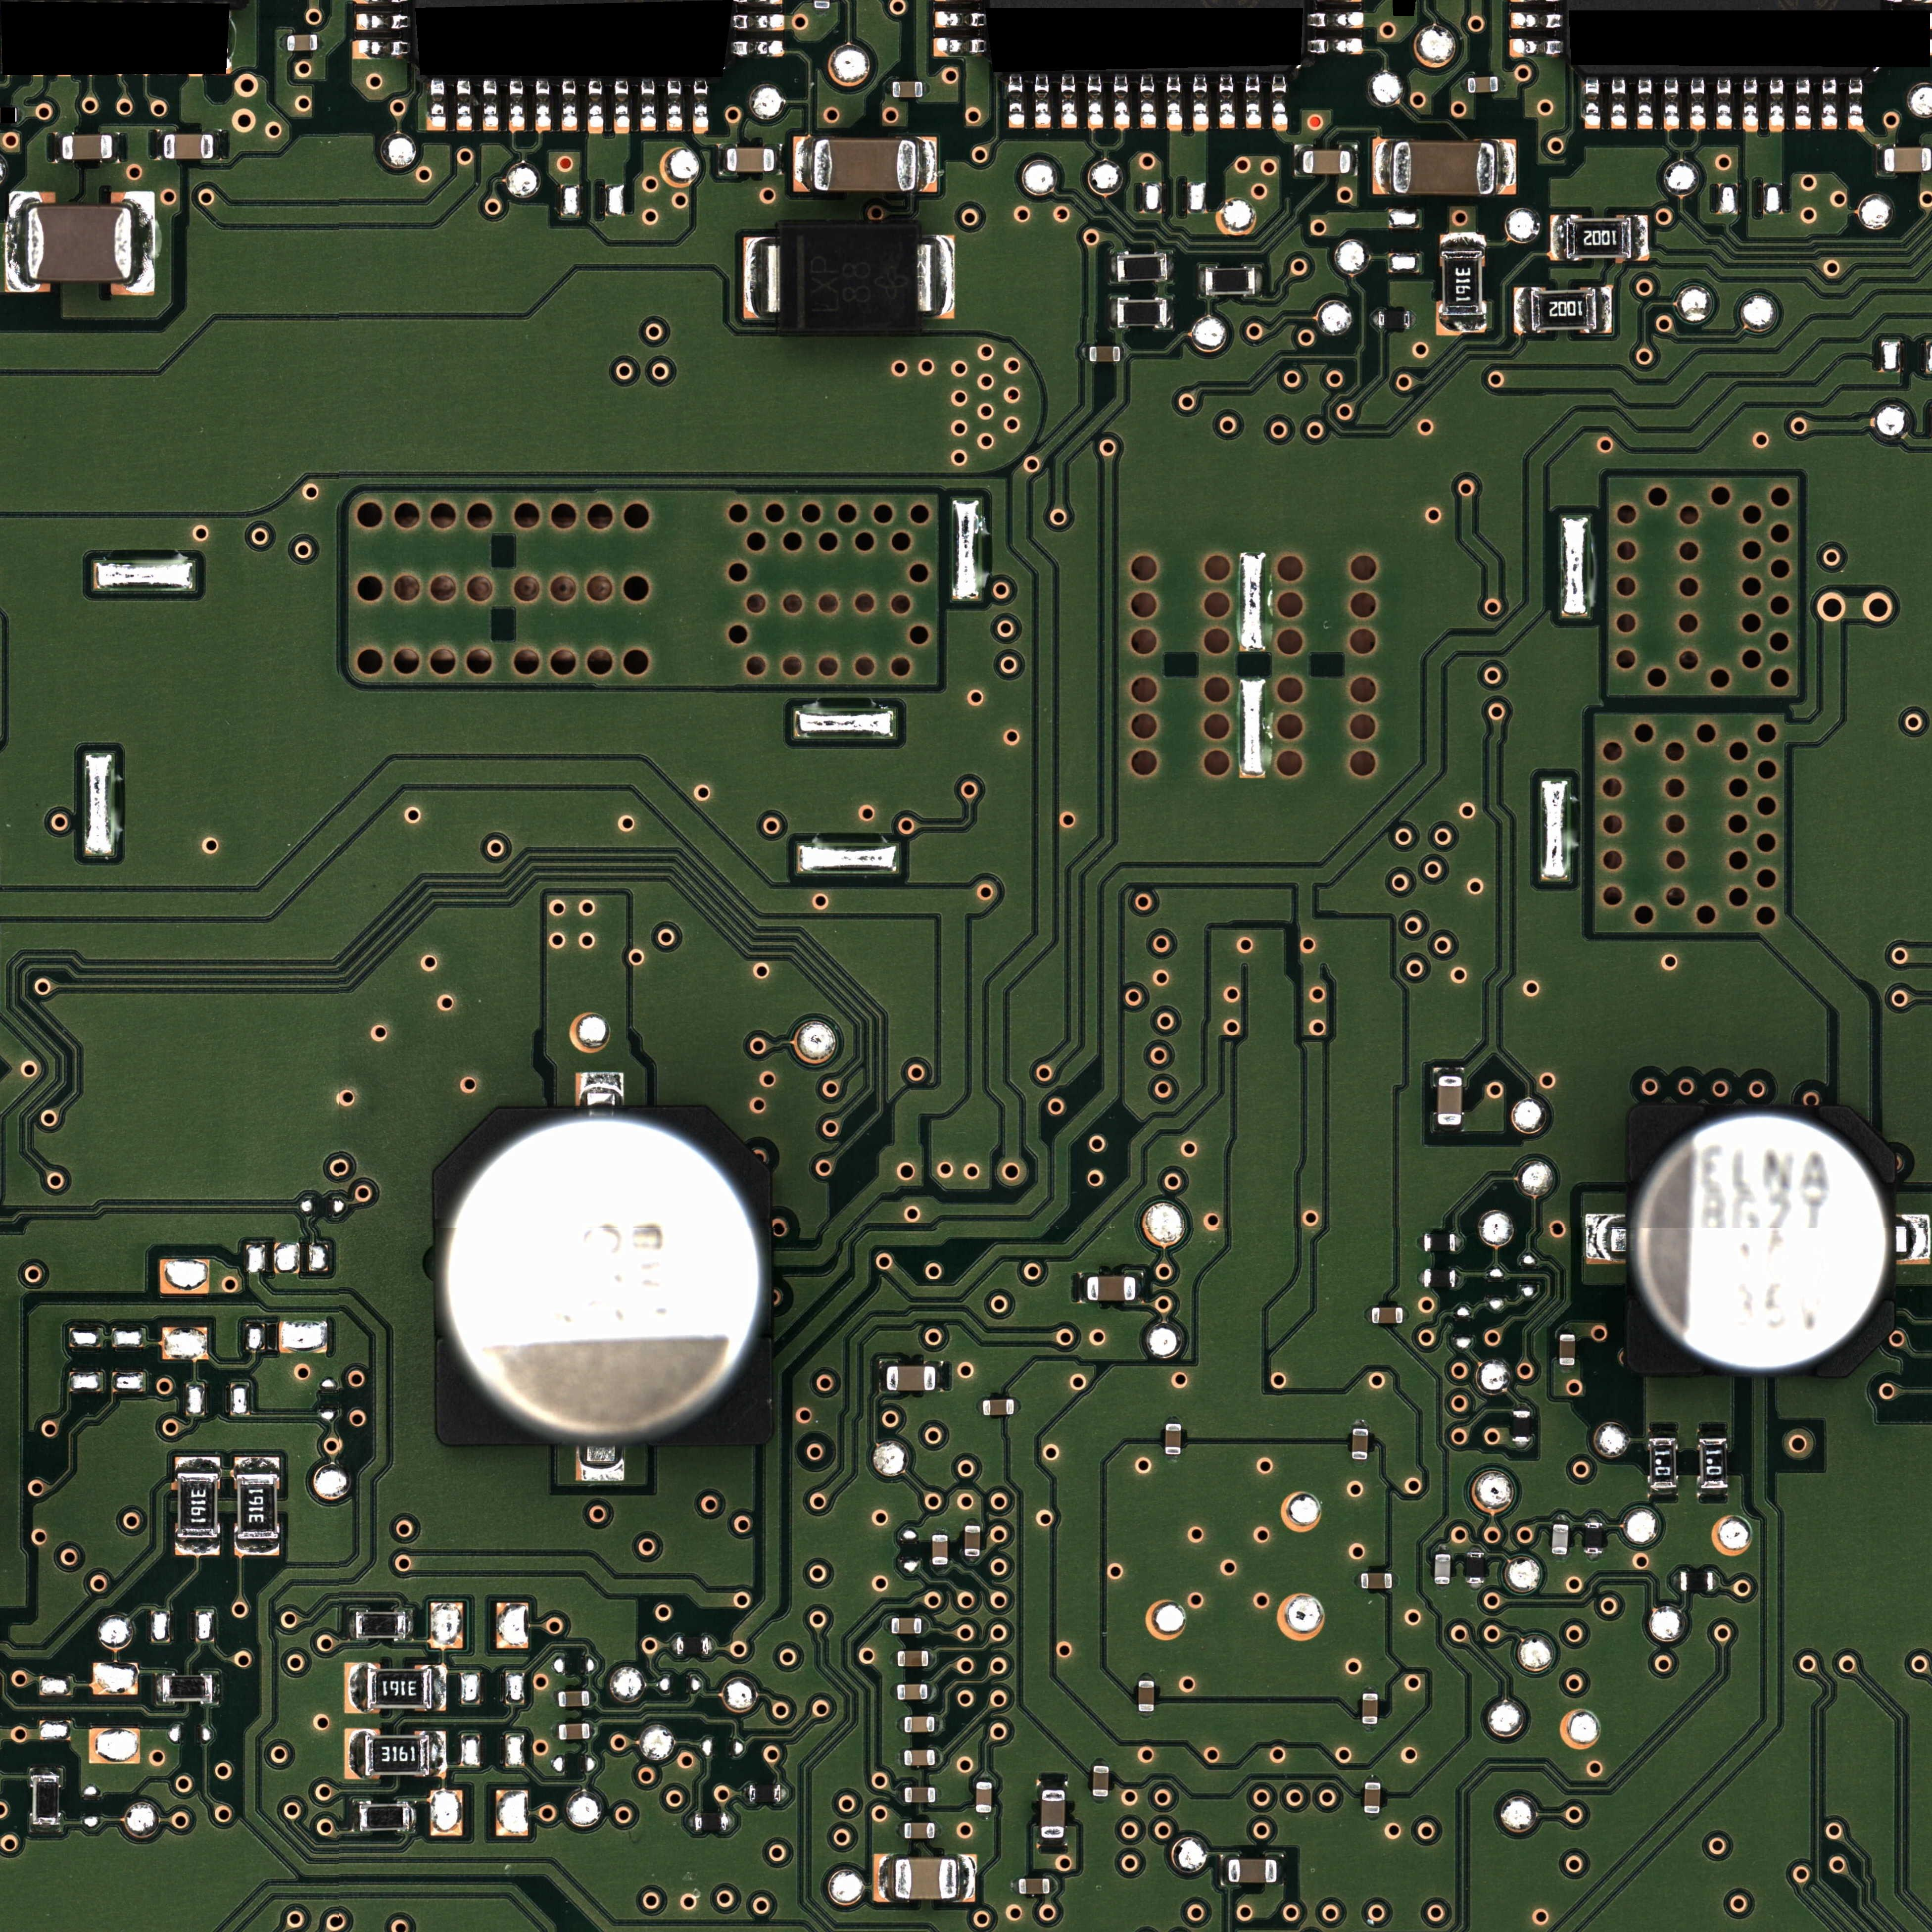Package: (435, 1108, 772, 1444), (1627, 1105, 1895, 1374), (780, 224, 918, 332), (28, 205, 132, 282), (1393, 142, 1495, 194), (814, 139, 916, 191), (177, 1473, 218, 1538), (1441, 251, 1483, 315), (1531, 290, 1596, 331), (1566, 217, 1631, 258), (237, 1474, 278, 1539), (367, 1669, 432, 1709), (365, 1735, 430, 1775), (895, 1859, 957, 1899), (1700, 1438, 1727, 1488), (1117, 299, 1166, 326), (360, 1804, 409, 1830), (1649, 1438, 1676, 1488), (62, 135, 112, 160), (356, 1612, 406, 1638), (1117, 255, 1167, 281), (164, 134, 214, 159), (1206, 268, 1255, 294), (162, 1676, 212, 1701), (887, 1365, 936, 1391), (34, 1775, 58, 1825), (1087, 1276, 1135, 1301), (1437, 1076, 1462, 1125), (1228, 1859, 1277, 1884), (1041, 1790, 1065, 1838), (727, 148, 774, 172), (1303, 150, 1350, 174), (1885, 149, 1932, 171), (1680, 1571, 1713, 1591), (676, 1637, 709, 1655), (695, 1813, 727, 1832), (1585, 1522, 1603, 1554), (1424, 1233, 1455, 1252), (1466, 1551, 1485, 1583), (1512, 1411, 1531, 1442), (1378, 311, 1410, 328), (749, 1785, 781, 1802), (1424, 1269, 1455, 1287), (559, 1723, 590, 1739), (897, 1650, 928, 1667), (558, 1690, 589, 1707), (1138, 1681, 1155, 1712), (1559, 1334, 1576, 1365), (975, 1782, 992, 1813), (1362, 1693, 1378, 1724), (1352, 1429, 1368, 1459), (1165, 1424, 1181, 1454), (1364, 1783, 1381, 1813), (904, 1750, 935, 1766), (1372, 1307, 1403, 1323), (1361, 1573, 1392, 1589), (983, 1399, 1014, 1415), (287, 35, 317, 51), (891, 1618, 921, 1634), (964, 1526, 980, 1556), (904, 1716, 934, 1733), (1468, 76, 1498, 93), (904, 1823, 935, 1838), (905, 1787, 935, 1803), (1089, 346, 1120, 362), (892, 82, 922, 97), (932, 1535, 948, 1565), (897, 1684, 927, 1700), (1435, 1554, 1450, 1584), (1552, 1524, 1568, 1554), (1019, 1879, 1050, 1894), (1093, 1766, 1109, 1796), (1396, 0, 1411, 6)
Solder: (918, 235, 955, 319), (743, 237, 779, 320), (133, 192, 155, 294), (5, 191, 26, 291), (1585, 1214, 1625, 1260), (1897, 1214, 1931, 1263), (577, 1072, 624, 1106), (578, 1446, 624, 1481), (1496, 139, 1516, 195), (918, 137, 937, 192), (793, 136, 812, 193), (1373, 139, 1392, 195), (346, 1663, 366, 1713), (936, 38, 990, 55), (1309, 10, 1364, 28), (1509, 39, 1564, 56), (345, 1729, 364, 1779), (356, 13, 410, 31), (357, 41, 411, 58), (729, 12, 783, 30), (730, 40, 784, 57), (935, 11, 989, 28), (1308, 38, 1362, 55), (1510, 12, 1564, 29), (456, 80, 473, 131), (533, 80, 550, 131), (1008, 76, 1025, 127), (1217, 77, 1234, 128), (1584, 78, 1600, 129), (483, 80, 499, 130), (1089, 76, 1106, 126), (1166, 76, 1183, 127), (1193, 76, 1210, 127), (1244, 76, 1261, 127), (1271, 76, 1288, 127), (1742, 79, 1759, 129), (1769, 79, 1786, 129), (1820, 79, 1836, 129), (1846, 79, 1863, 129), (429, 80, 445, 131), (1035, 76, 1052, 127), (1113, 76, 1129, 127), (1140, 77, 1156, 128), (1611, 78, 1627, 129), (1689, 79, 1705, 130), (958, 1854, 975, 1902), (877, 1853, 894, 1902), (510, 80, 526, 130), (561, 81, 577, 131), (587, 80, 604, 131), (614, 80, 630, 131), (638, 81, 655, 131), (665, 80, 681, 131), (692, 80, 708, 131), (1062, 76, 1078, 126), (1638, 78, 1654, 129), (1664, 78, 1681, 129), (1715, 79, 1732, 130), (1793, 79, 1809, 130), (1438, 316, 1487, 332), (1514, 287, 1531, 334), (1440, 233, 1486, 250), (175, 1539, 221, 1555), (430, 1732, 446, 1778), (235, 1540, 280, 1556), (1632, 215, 1648, 260), (1550, 215, 1566, 261), (234, 1457, 280, 1473), (1597, 287, 1612, 334), (175, 1457, 220, 1472), (432, 1665, 446, 1711), (1294, 144, 1303, 178), (1255, 264, 1263, 297), (1037, 1780, 1067, 1789), (1647, 1429, 1678, 1438), (1037, 1838, 1067, 1847), (1875, 145, 1884, 175), (30, 1767, 63, 1775), (1110, 251, 1117, 284), (1432, 1125, 1464, 1133), (935, 1361, 943, 1392), (1220, 1855, 1228, 1885), (1434, 1067, 1464, 1075), (1697, 1429, 1728, 1437), (1198, 264, 1206, 299), (1698, 1489, 1728, 1497), (1110, 295, 1117, 330), (879, 1360, 887, 1392), (212, 1672, 220, 1706), (1350, 143, 1357, 176), (351, 1801, 359, 1832), (348, 1609, 356, 1640), (409, 1801, 417, 1832), (1276, 1854, 1284, 1885), (774, 144, 782, 174), (406, 1609, 413, 1642), (29, 1826, 63, 1833), (1167, 249, 1174, 284), (1136, 1271, 1143, 1305), (719, 145, 726, 175), (156, 1673, 163, 1706), (1649, 1488, 1678, 1496), (1167, 295, 1173, 331), (1079, 1273, 1087, 1303), (55, 133, 62, 162), (157, 130, 164, 160), (214, 131, 220, 160), (112, 133, 118, 162), (279, 33, 287, 52), (1164, 1455, 1181, 1464), (1456, 1270, 1464, 1288), (1352, 1419, 1368, 1428), (1093, 1757, 1109, 1766), (318, 33, 326, 51), (1586, 1554, 1601, 1563), (885, 80, 893, 97), (931, 1565, 949, 1573), (976, 1812, 991, 1821), (1416, 1233, 1424, 1252), (964, 1518, 981, 1526), (1011, 1878, 1019, 1894), (814, 8, 829, 16), (1364, 1307, 1372, 1323), (1352, 1459, 1368, 1467), (1050, 1879, 1058, 1894), (1370, 310, 1378, 328), (1410, 311, 1417, 329), (1498, 76, 1506, 92), (1460, 77, 1468, 93), (687, 1814, 695, 1831), (1456, 1234, 1463, 1251), (1673, 1573, 1681, 1590), (1436, 1546, 1451, 1554), (923, 81, 930, 97), (932, 1528, 948, 1535), (551, 1724, 559, 1740), (1082, 345, 1089, 362), (975, 1775, 992, 1782), (670, 1637, 676, 1655), (921, 1618, 929, 1634), (781, 1785, 788, 1802), (1395, 6, 1412, 13), (1417, 1269, 1424, 1286), (1138, 1674, 1155, 1681), (709, 1637, 715, 1655), (742, 1785, 749, 1802), (1512, 1442, 1530, 1449), (1353, 1573, 1361, 1588), (1093, 1796, 1108, 1804), (1552, 1554, 1568, 1562), (898, 1749, 905, 1766), (1402, 1307, 1409, 1324), (1559, 1365, 1575, 1372), (1713, 1572, 1719, 1591), (589, 1690, 596, 1706), (1165, 1417, 1181, 1424), (1559, 1327, 1575, 1334), (928, 1651, 935, 1666), (898, 1823, 905, 1838), (1392, 1573, 1399, 1588), (1362, 1687, 1378, 1693), (1468, 1584, 1483, 1591), (1467, 1545, 1483, 1552), (927, 1684, 934, 1700), (964, 1556, 980, 1563), (976, 1399, 983, 1415), (1513, 1404, 1530, 1410), (1435, 1585, 1449, 1592), (934, 1716, 940, 1732), (898, 1717, 905, 1733), (935, 1787, 942, 1802), (1014, 1399, 1020, 1414), (935, 1749, 941, 1766), (1120, 345, 1126, 362), (590, 1724, 596, 1739), (935, 1823, 941, 1838), (1365, 1776, 1380, 1782), (1586, 1516, 1601, 1522), (885, 1618, 892, 1633), (891, 1684, 897, 1699), (17, 107, 23, 122), (892, 1651, 898, 1666), (553, 1690, 558, 1706), (727, 1814, 733, 1829), (1362, 1724, 1377, 1730), (899, 1787, 905, 1802), (1138, 1712, 1154, 1717), (1553, 1519, 1567, 1524), (1364, 1814, 1379, 1819)
